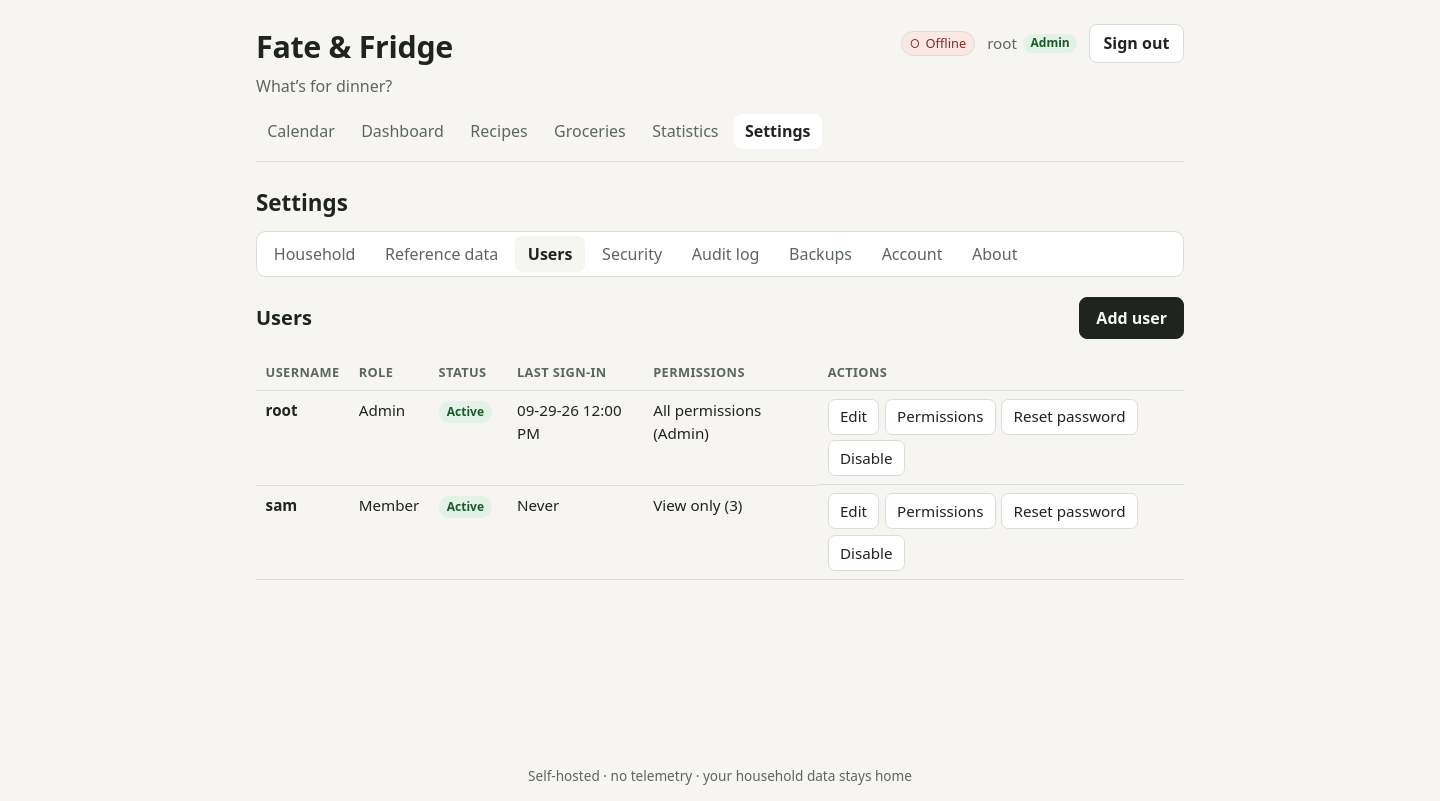
Scenario: users section › confirms disabling and resets the password with a one-time display
The image size is (1440, 801).
Click the button with aria-label "Disable sam": click(866, 553) [828, 535, 905, 571]
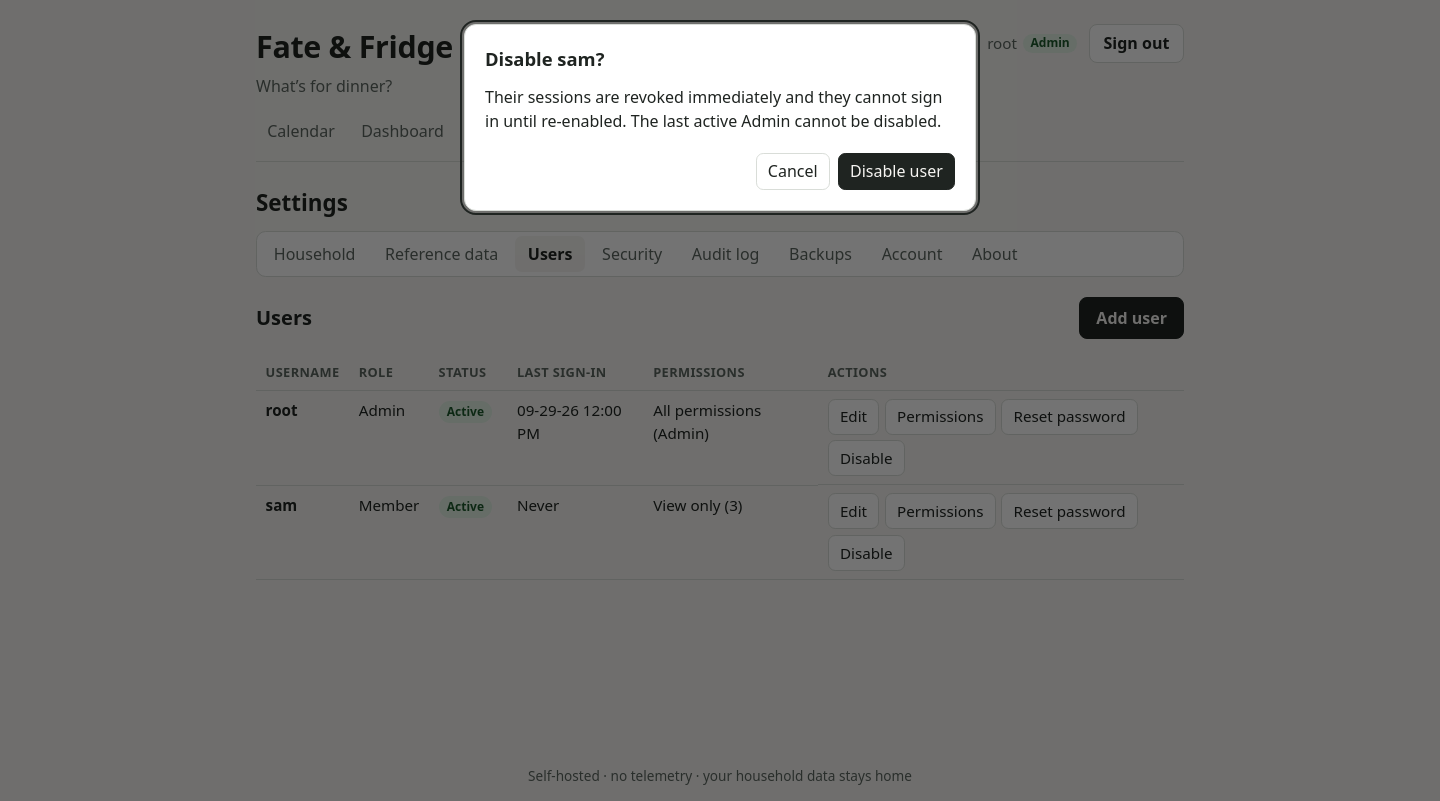
Expected: the dialog "Disable sam?" is shown, [464, 24, 976, 211]
Click the button "Disable user": click(896, 171) [838, 153, 955, 190]
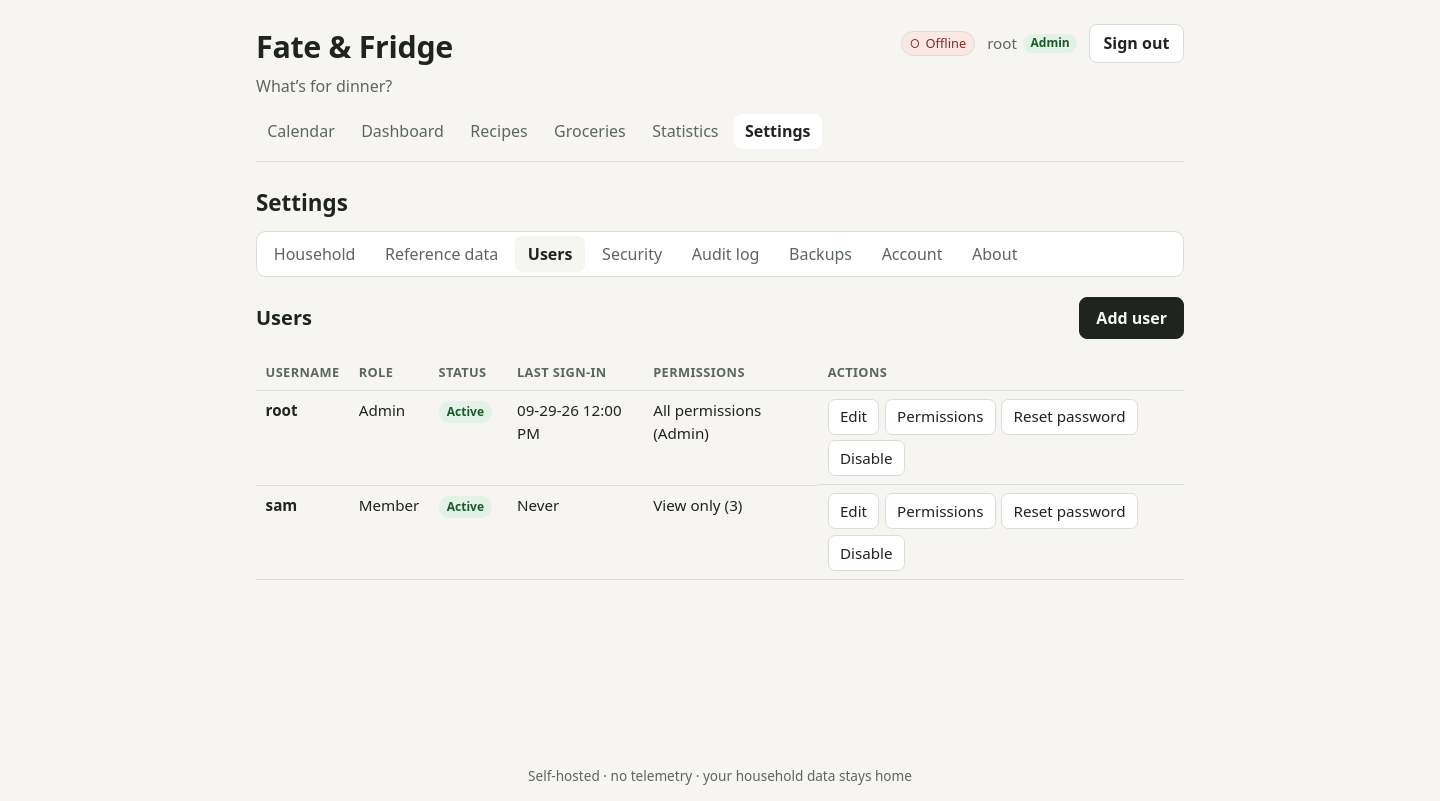
Expected: the dialog is gone
Click the button with aria-label "Reset password for sam": click(1070, 511) [1001, 493, 1138, 529]
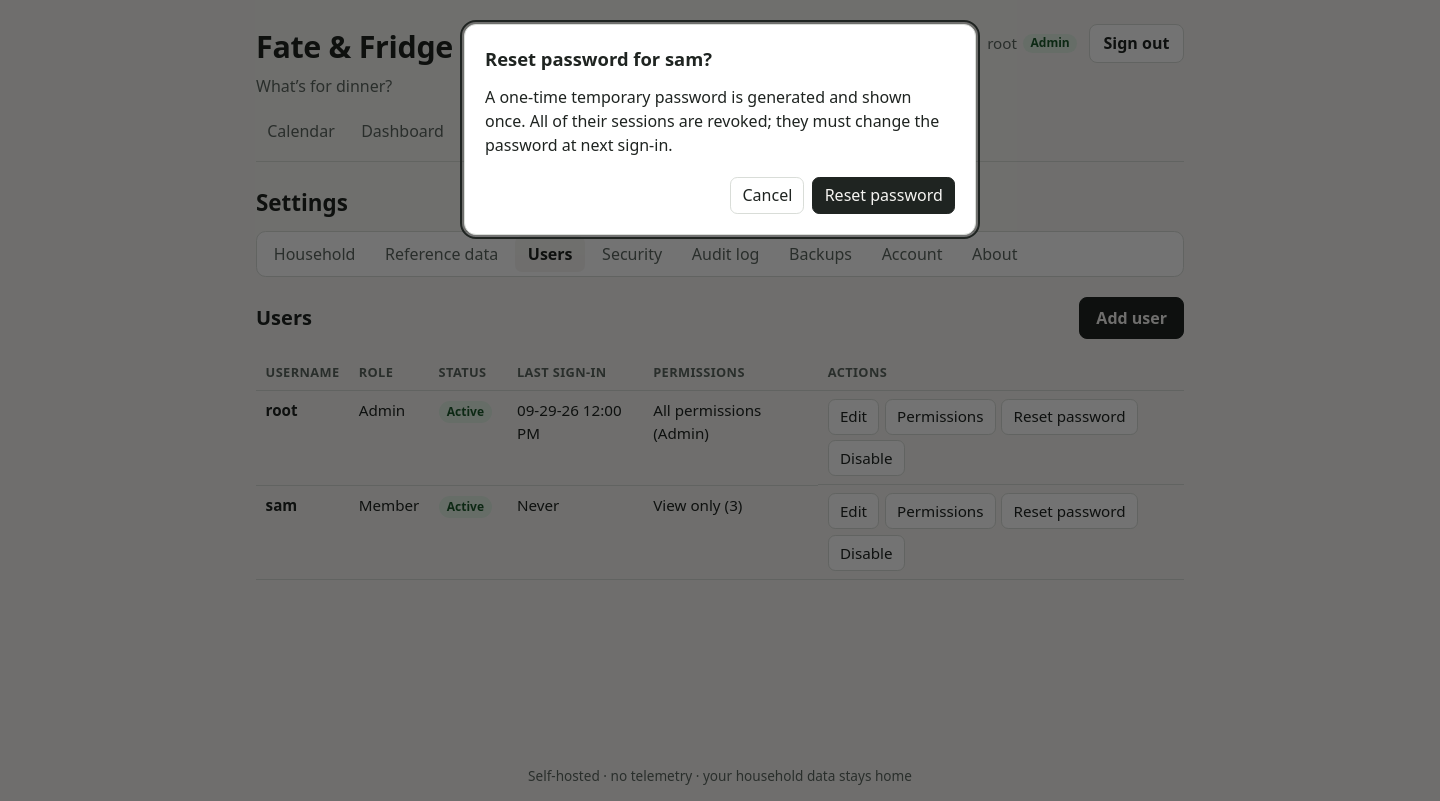
Click the button "Reset password": click(884, 195) [812, 177, 955, 214]
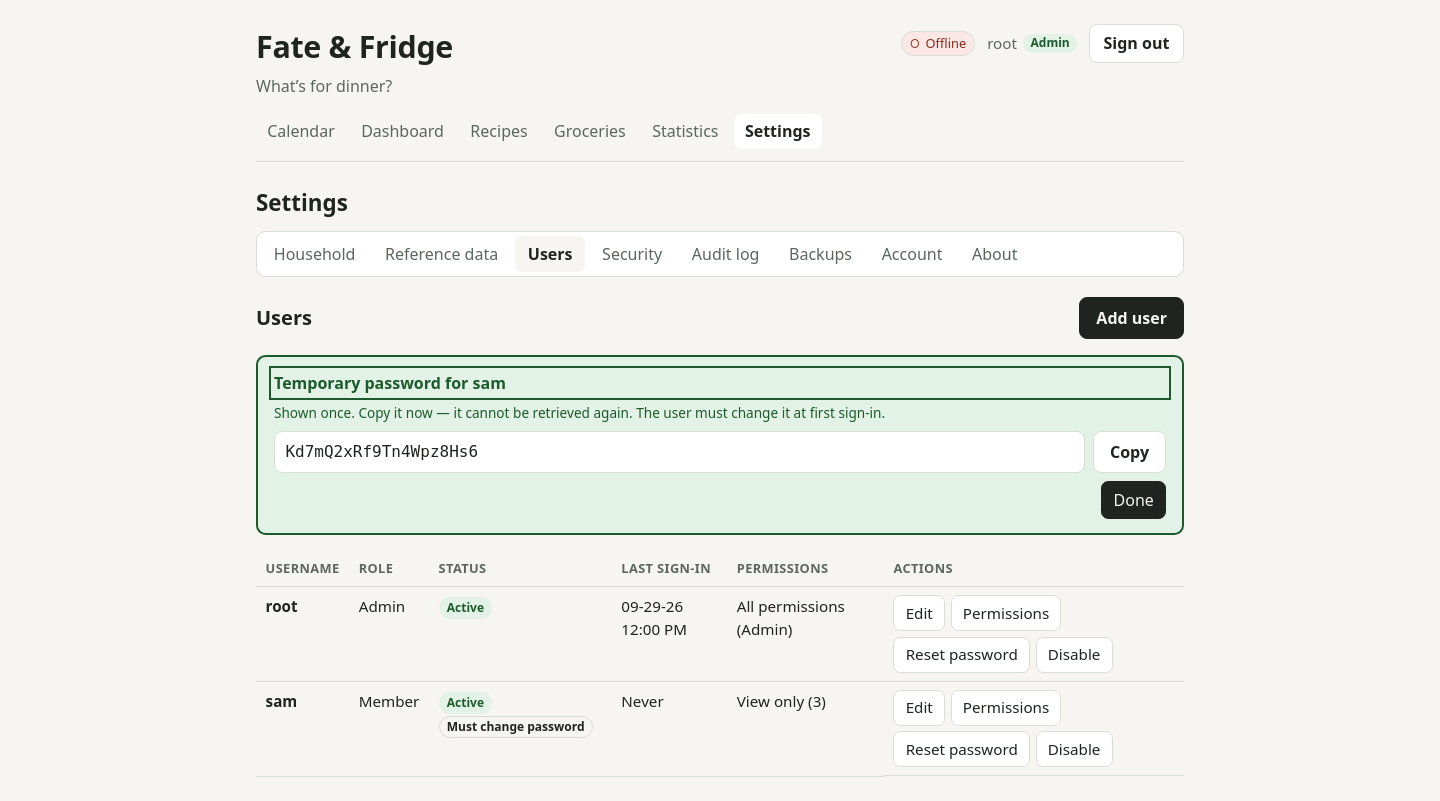
Expected: the heading "Temporary password for sam" is shown, [274, 372, 506, 394]
Expected: the field named "Temporary password" holds "Kd7mQ2xRf9Tn4Wpz8Hs6", [274, 431, 1085, 473]
Expected: the text "Must change password" is shown, [439, 716, 593, 738]
